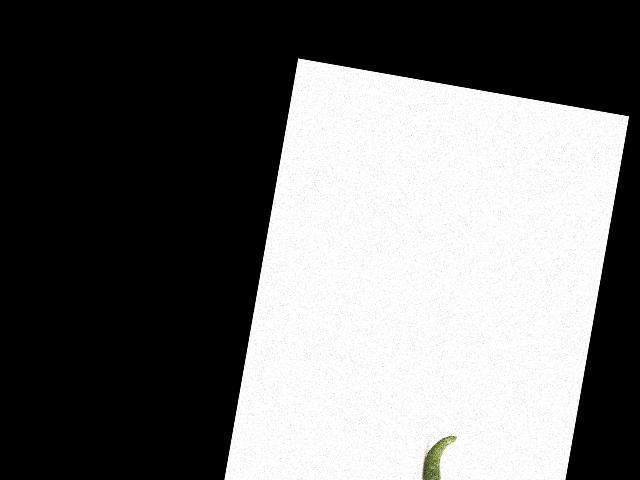cucumber: (418, 432, 456, 480)
